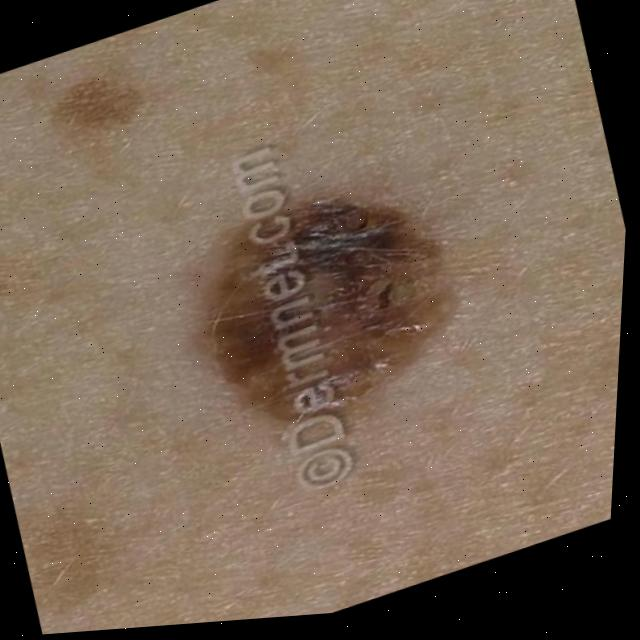Eczema: (216, 164, 434, 414)
